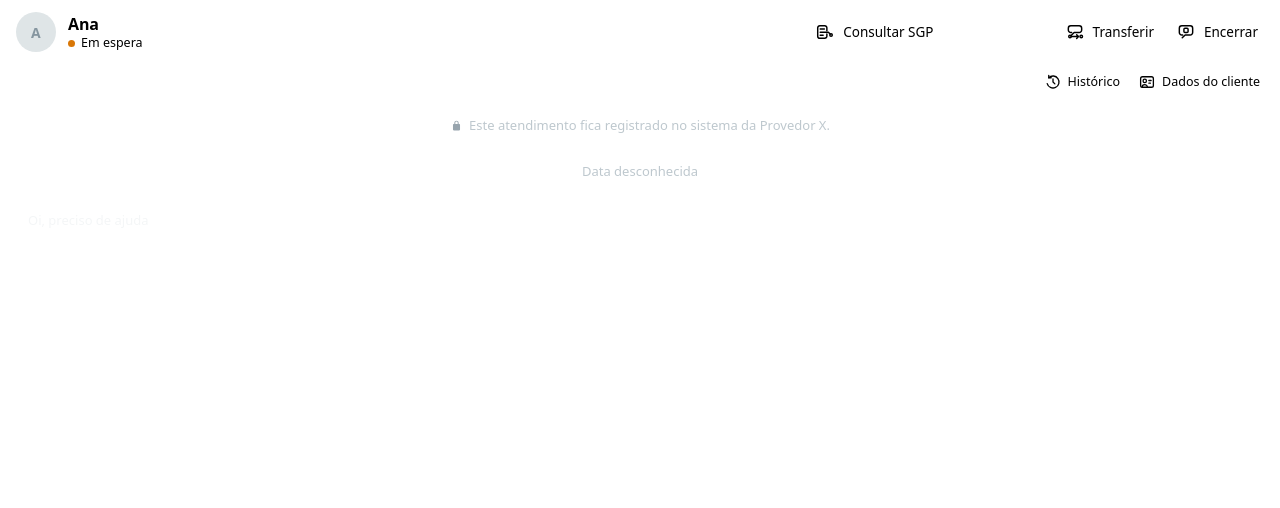
Scenario: ConversationView › permite fechar e reabrir os dados do cliente sem alterar a conversa
The image size is (1280, 508).
Click the button "Dados do cliente". click: (1199, 82)
box: [1130,66,1268,98]
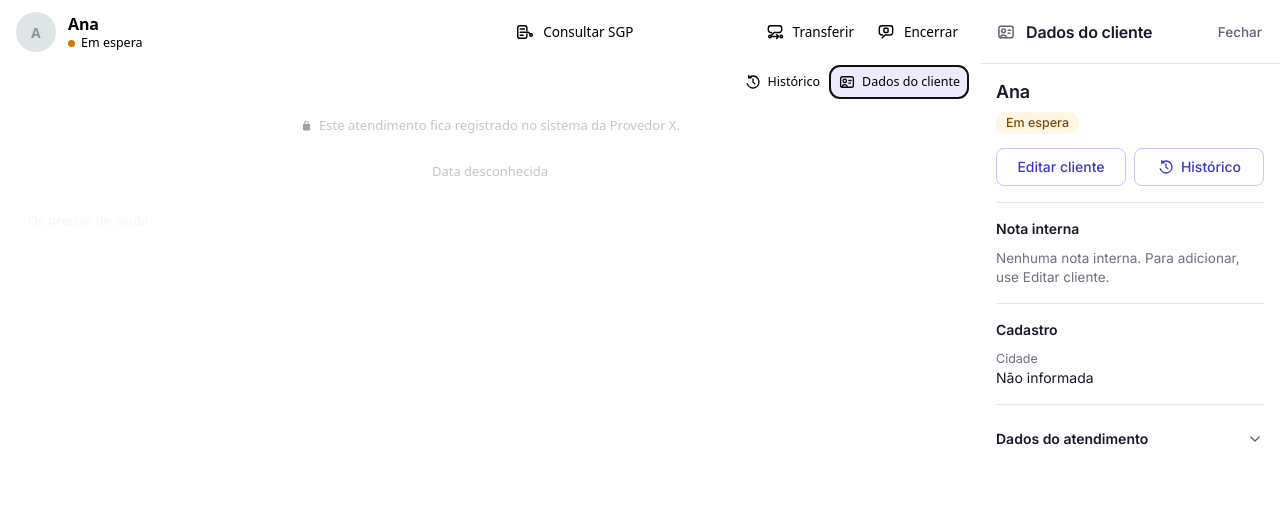
Click the button with aria-label "Fechar dados do cliente". click: (1240, 32)
box: [1208,14,1272,50]
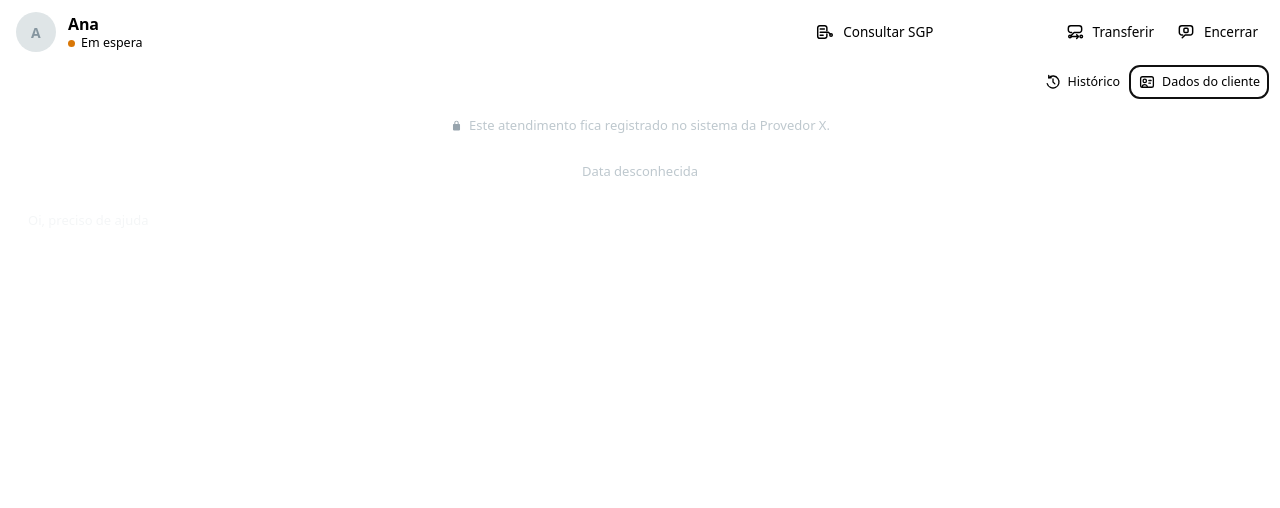
Click the button "Dados do cliente". click: (1199, 82)
box: [1130,66,1268,98]
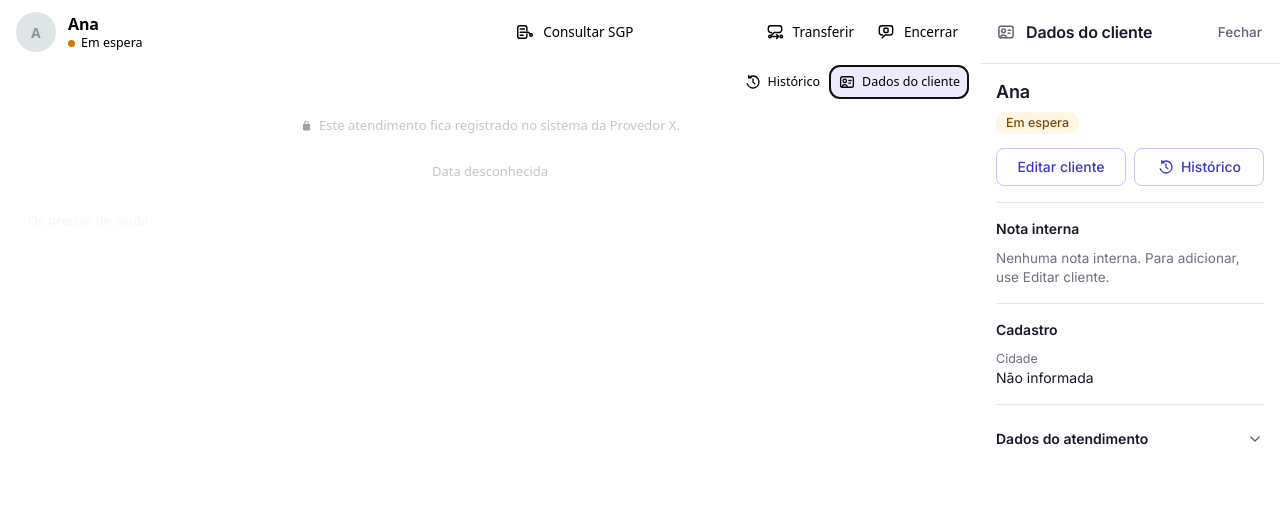
Expected: the button with aria-label "Editar cliente: Ana" is shown, [12,8,497,56]
Expected: the element "Dados do cliente" is shown, [980,0,1279,491]
